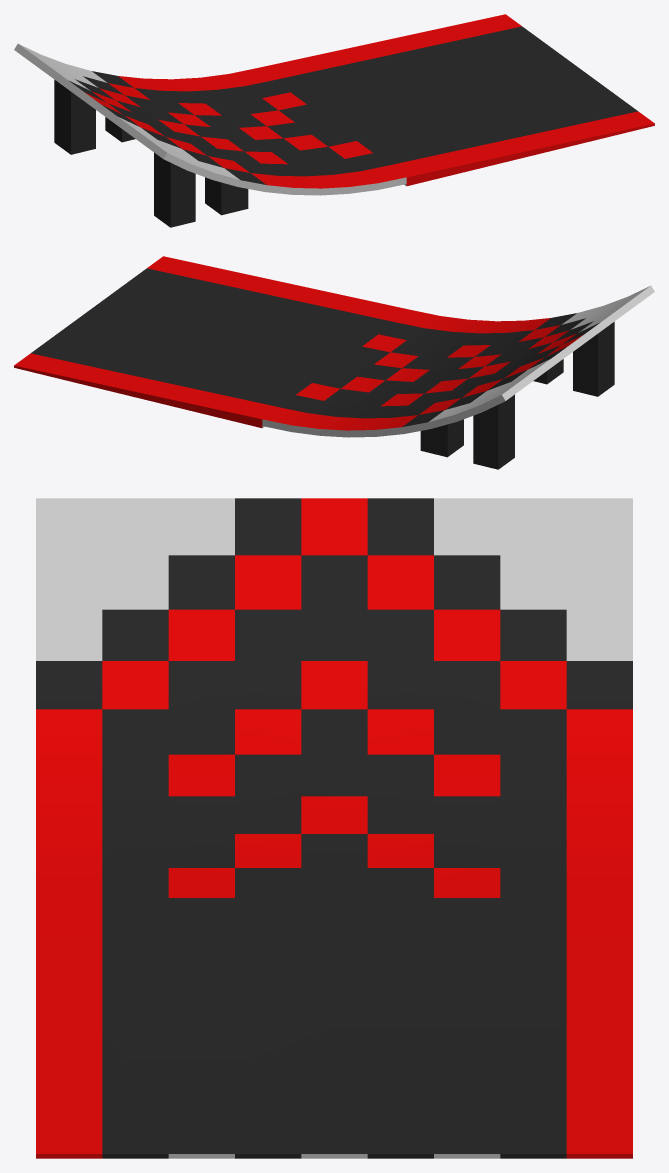
3 views of the same model, one above another, from view 1: azimuth 30°, elevation 25°; view 2: azimuth 150°, elevation 25°; view 3: azimuth 270°, elevation 25° (orthographic). The views are drawn at different scales.
Visible parts, largest first — view 1: Regular_Plane1; view 2: Regular_Plane1; view 3: Regular_Plane1.
Part boxes in pixels (box(x1,y1,x2,y2)): Regular_Plane1: box(14, 14, 654, 227); Regular_Plane1: box(14, 256, 654, 469); Regular_Plane1: box(36, 498, 632, 1158).
Bounding box in the file's own units: 10.52 × 1.88 × 5.54.
